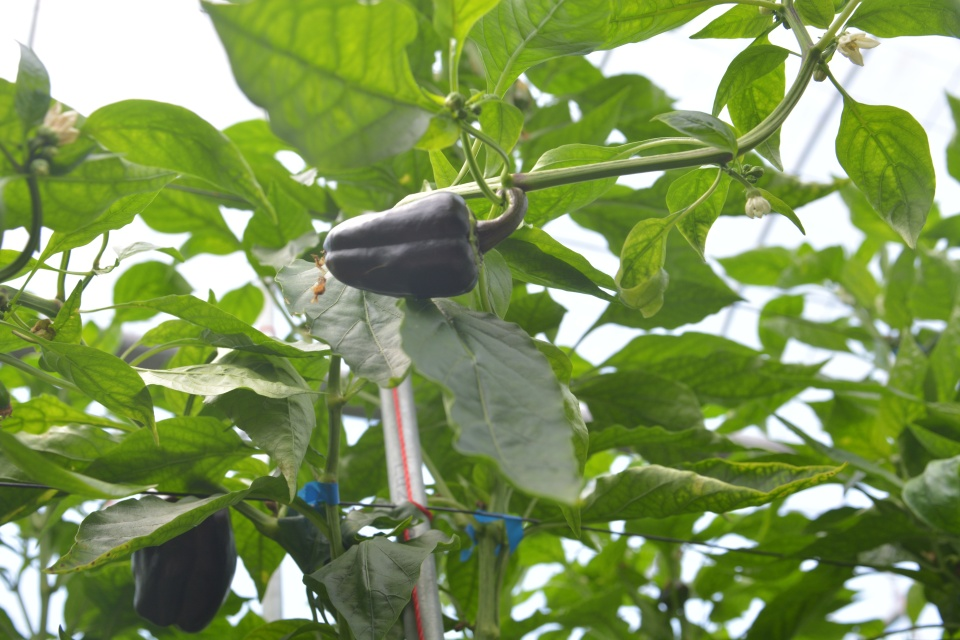flower: (40, 100, 83, 148), (836, 29, 882, 68), (742, 191, 773, 222)
fruit: (320, 189, 482, 301), (128, 489, 239, 636)
pedicle: (468, 208, 481, 269)
